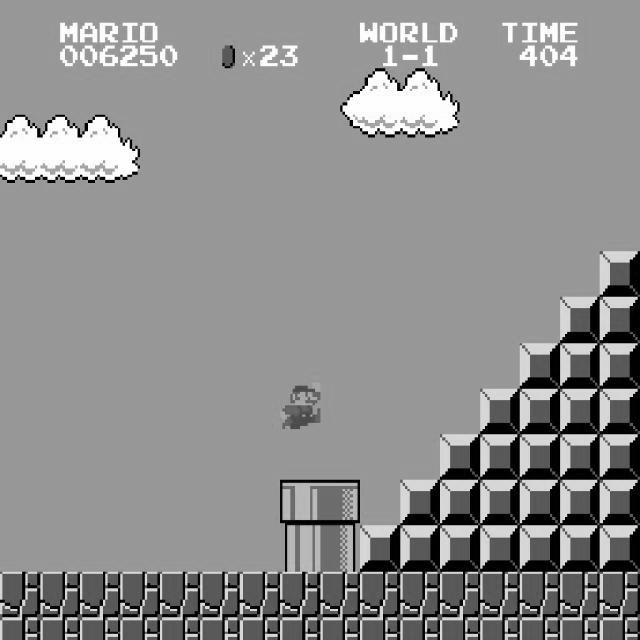11- little_mario: (277, 381, 320, 428)
14- pipe: (280, 526, 320, 572), (320, 526, 360, 572)
15- pipe_head: (280, 480, 320, 526), (320, 480, 360, 526)
17- undestructible_block: (599, 571, 640, 617), (0, 571, 40, 617), (40, 572, 80, 618), (80, 572, 120, 618), (120, 572, 160, 618), (160, 572, 200, 618), (200, 572, 240, 618), (240, 572, 280, 618), (280, 572, 320, 618), (320, 572, 360, 618), (360, 572, 400, 618), (400, 572, 440, 618), (440, 572, 480, 618), (480, 572, 520, 618), (520, 572, 560, 618), (560, 572, 600, 618), (40, 617, 80, 640), (80, 617, 120, 640), (120, 617, 160, 640), (160, 617, 200, 640), (200, 617, 240, 640), (240, 617, 280, 640), (280, 617, 320, 640), (320, 617, 360, 640), (360, 617, 400, 640), (400, 617, 440, 640), (440, 617, 480, 640), (480, 617, 520, 640), (520, 617, 560, 640), (560, 617, 600, 640), (599, 617, 640, 639), (0, 617, 40, 639)
9- hard_block: (599, 251, 640, 297), (599, 342, 640, 388), (599, 388, 640, 434), (599, 525, 640, 571), (599, 297, 640, 342), (599, 434, 640, 479), (599, 480, 640, 525), (360, 526, 400, 572), (400, 480, 440, 526), (400, 526, 440, 572), (440, 434, 480, 480), (440, 480, 480, 526), (440, 526, 480, 572), (480, 388, 520, 434), (480, 434, 520, 480), (480, 480, 520, 526), (480, 526, 520, 572), (520, 388, 560, 434), (520, 434, 560, 480), (520, 480, 560, 526), (520, 526, 560, 572), (560, 297, 600, 343), (560, 388, 600, 434), (560, 434, 600, 480), (560, 480, 600, 526), (560, 526, 600, 572), (520, 343, 560, 388), (560, 343, 600, 388)
